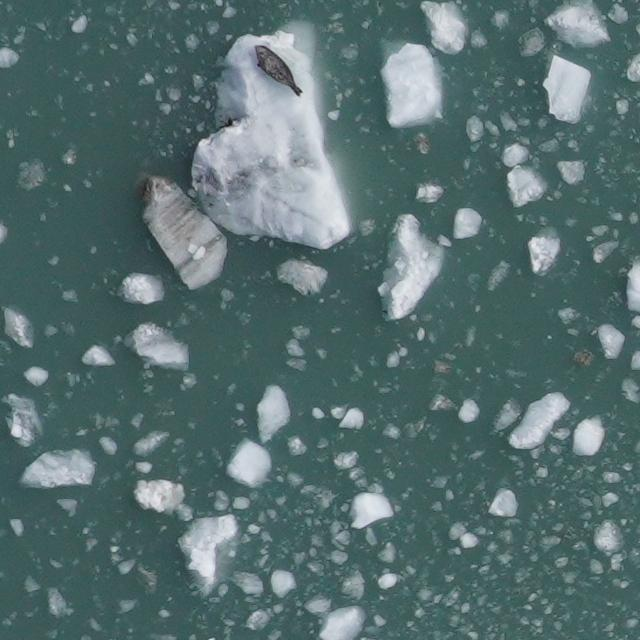seal: (252, 42, 307, 101)
